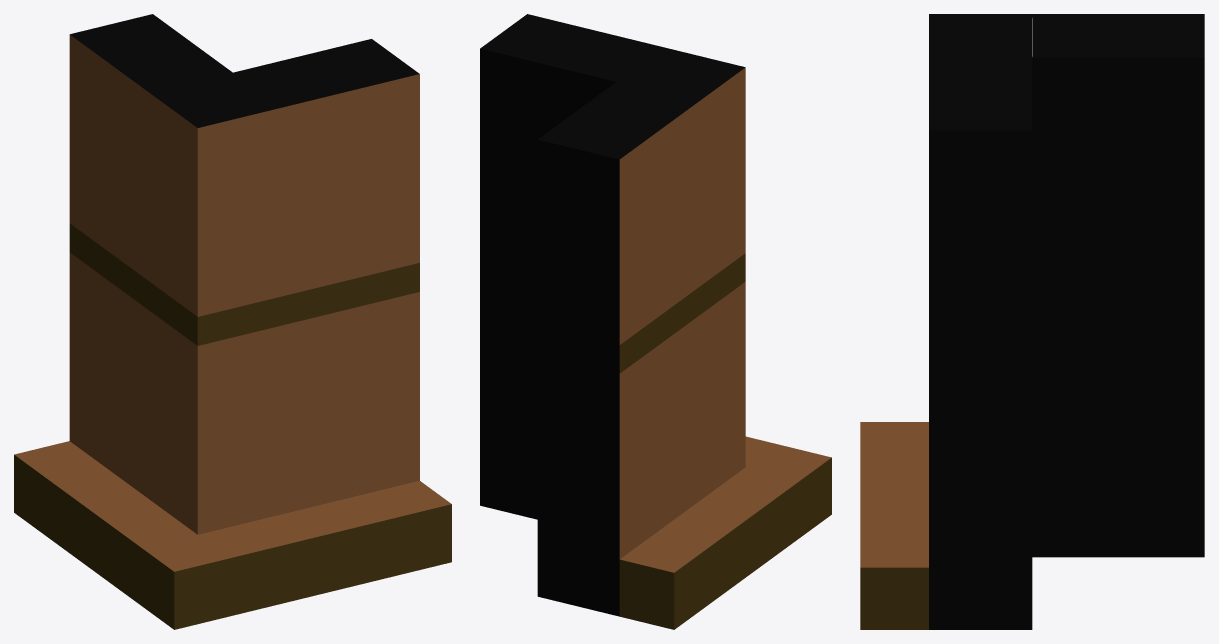
Rendered from corner2.FBX.
The picture shows the model from 3 angles, left to right: view 1: azimuth 30°, elevation 25°; view 2: azimuth 150°, elevation 25°; view 3: azimuth 270°, elevation 25°; orthographic projection. The views are drawn at different scales.
Parts seen in each view (by area): view 1: corner2_wall, Box000, Box001; view 2: corner2_wall, Box001, Box000; view 3: corner2_wall, Box000.
Part boxes in pixels (box(x1,y1,x2,y2)): corner2_wall: box(69, 14, 419, 534); Box000: box(142, 480, 451, 629); Box001: box(14, 441, 197, 605); corner2_wall: box(480, 14, 745, 616); Box001: box(619, 467, 800, 629); Box000: box(745, 436, 831, 537); corner2_wall: box(929, 14, 1204, 629); Box000: box(860, 422, 928, 629).
Size of the model in its own units: 100 by 160 by 100.
